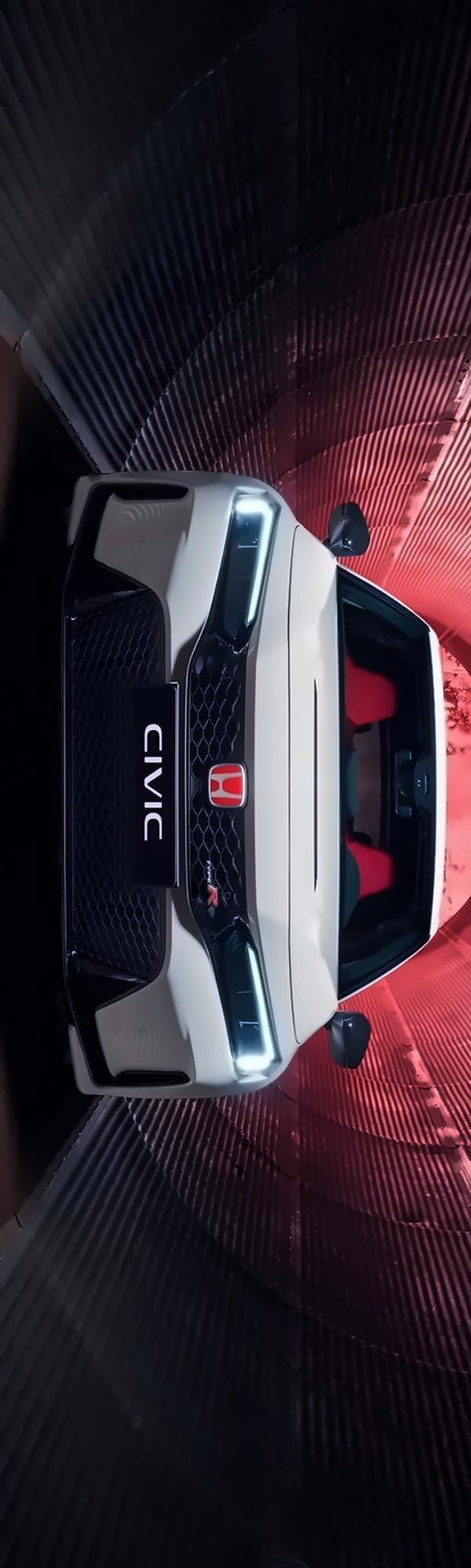Car hood: (230, 497, 342, 1088)
Front bumper: (45, 463, 258, 1108)
Headlight - -L-: (220, 931, 284, 1095)
Headlight - -R-: (198, 476, 285, 662)
Side mirror - -L-: (314, 993, 372, 1074)
Side mirror - -R-: (322, 502, 379, 567)
